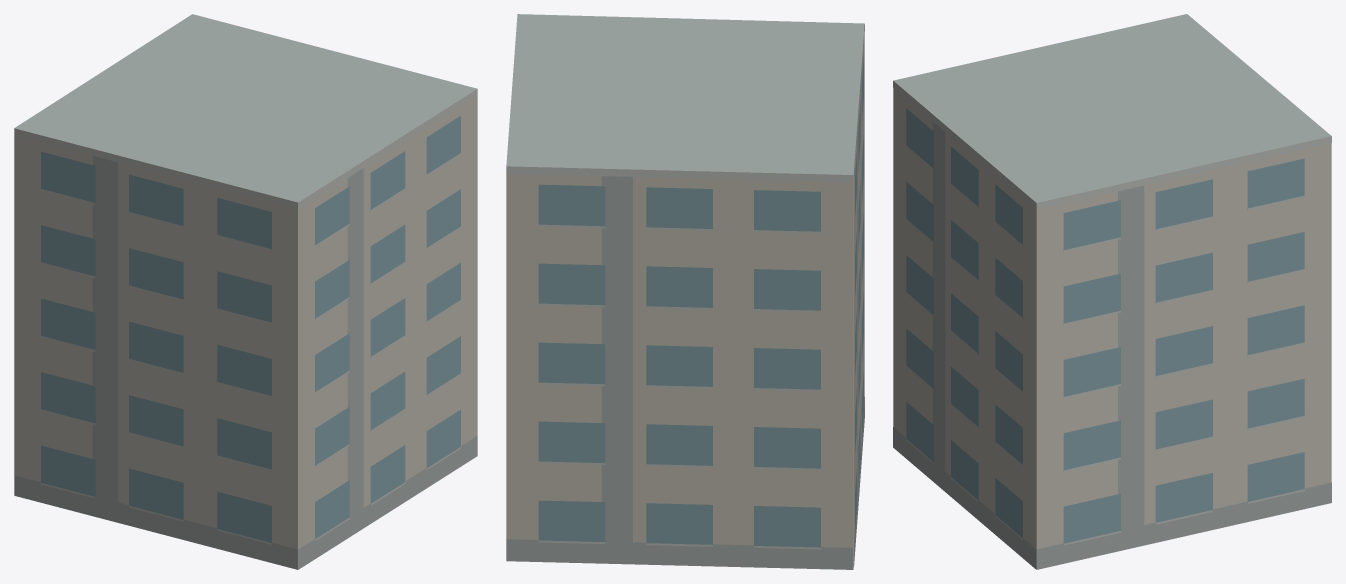
The model's file is survey-upis-32833928.glb.
The picture shows the model from 3 angles, left to right: view 1: azimuth 30°, elevation 25°; view 2: azimuth 150°, elevation 25°; view 3: azimuth 270°, elevation 25°; orthographic projection. The views are drawn at different scales.
Parts seen in each view (by area): view 1: survey-upis-32833928.tmp; view 2: survey-upis-32833928.tmp; view 3: survey-upis-32833928.tmp.
Boxes of the visible parts, bbox=[...] form: survey-upis-32833928.tmp: bbox=[14, 14, 477, 569]; survey-upis-32833928.tmp: bbox=[506, 14, 864, 569]; survey-upis-32833928.tmp: bbox=[893, 14, 1331, 569].
Bounding box in the file's own units: 14.37 × 13 × 14.1.
